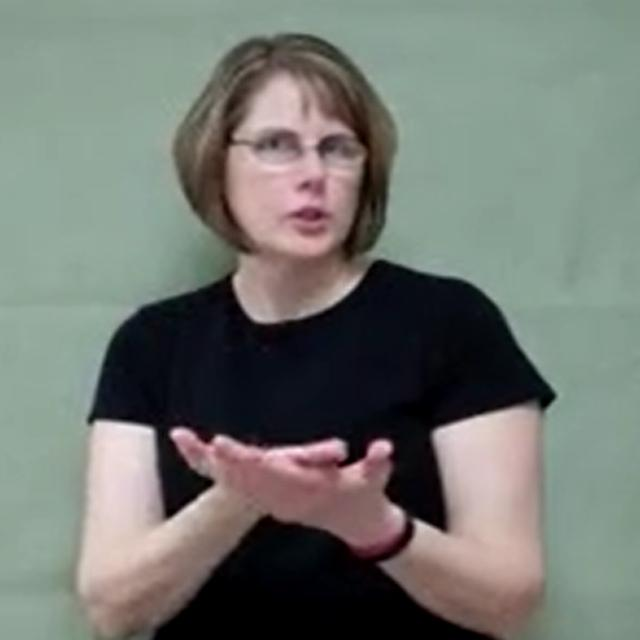good: (170, 427, 392, 522)
